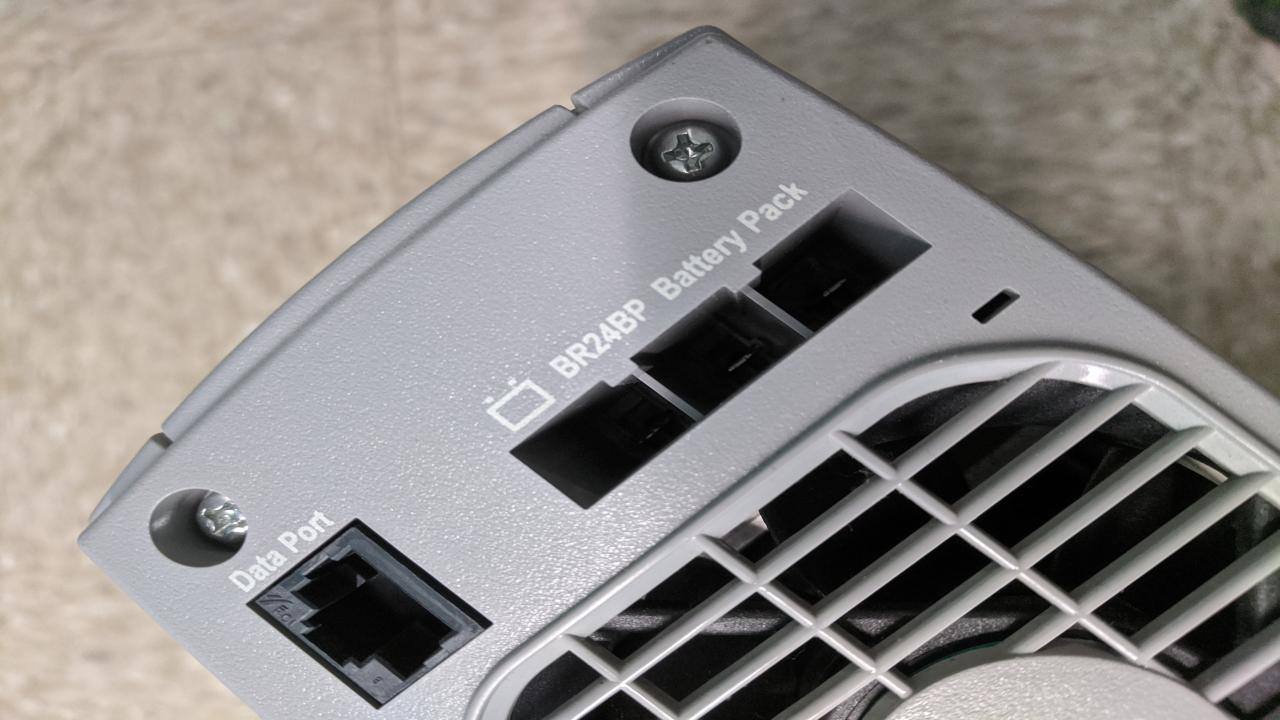CRS: (635, 110, 737, 179), (190, 488, 255, 544)
